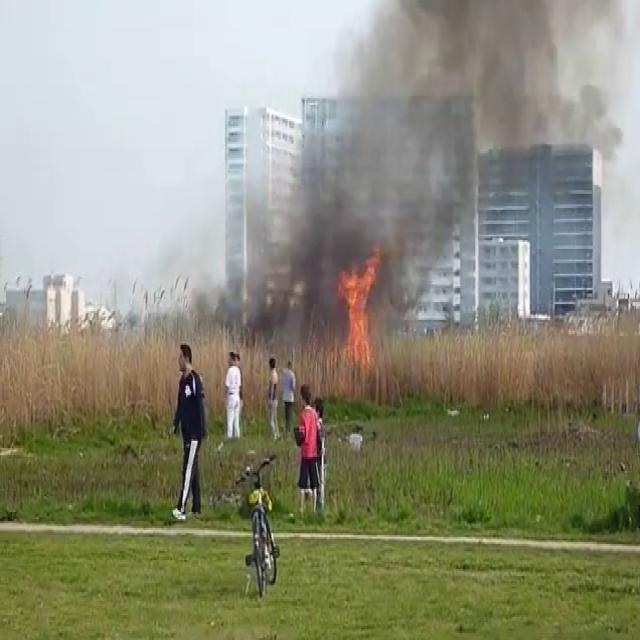Fire: (330, 244, 386, 376)
Smoke: (256, 0, 640, 324)
